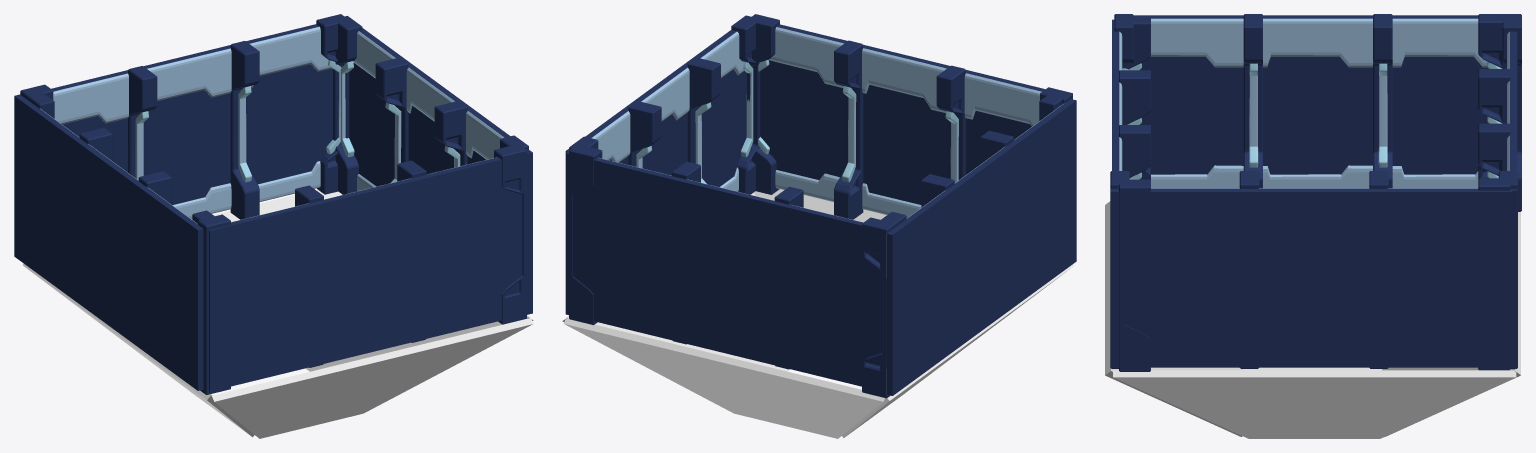
Rendered from SlantedRoom.fbx.
3 renders of one model, left to right at view 1: azimuth 30°, elevation 25°; view 2: azimuth 150°, elevation 25°; view 3: azimuth 270°, elevation 25°, orthographic. The views are drawn at different scales.
Parts seen in each view (by area): view 1: Wall3.003, Wall3.001, Wall3.004, Circuit_Board, Wall3.002, Ridge_outside.004, Ridge_outside.002, Ridge_outside.001, Ridge_outside.003, Circuit_Board.002, Circuit_Board.001, Circuit_Board.003; view 2: Wall3.004, Wall3.001, Wall3.003, Circuit_Board.003, Wall3.002, Ridge_outside.003, Ridge_outside.002, Ridge_outside.001, Ridge_outside.004, Circuit_Board.002, Circuit_Board, Circuit_Board.001; view 3: Wall3.002, Wall3.001, Circuit_Board.001, Ridge_outside.001, Ridge_outside.003, Ridge_outside.004, Wall3.004, Circuit_Board, Ridge_outside.002, Wall3.003, Circuit_Board.003, Circuit_Board.002.
Boxes of the visible parts, box(x1,y1,x2,y2) form: Wall3.003: box(209, 157, 522, 391); Wall3.001: box(14, 94, 203, 390); Wall3.004: box(51, 24, 332, 218); Circuit_Board: box(212, 318, 533, 438); Wall3.002: box(349, 28, 532, 314); Ridge_outside.004: box(27, 16, 362, 219); Ridge_outside.002: box(316, 14, 526, 324); Ridge_outside.001: box(20, 84, 230, 394); Ridge_outside.003: box(192, 135, 528, 367); Circuit_Board.002: box(22, 264, 254, 437); Circuit_Board.001: box(305, 194, 533, 371); Circuit_Board.003: box(213, 189, 341, 221); Wall3.004: box(565, 151, 882, 386); Wall3.001: box(886, 99, 1076, 395); Wall3.003: box(759, 24, 1045, 217); Circuit_Board.003: box(563, 317, 884, 438); Wall3.002: box(565, 30, 748, 191); Ridge_outside.003: box(731, 15, 1066, 219); Ridge_outside.002: box(569, 14, 779, 325); Ridge_outside.001: box(862, 87, 1072, 398); Ridge_outside.004: box(569, 136, 906, 369); Circuit_Board.002: box(842, 264, 1073, 437); Circuit_Board: box(754, 189, 886, 222); Circuit_Board.001: box(562, 192, 790, 371); Wall3.002: box(1110, 188, 1512, 367); Wall3.001: box(1134, 15, 1488, 188); Circuit_Board.001: box(1113, 370, 1516, 438); Ridge_outside.001: box(1114, 14, 1521, 211); Ridge_outside.003: box(1119, 15, 1150, 371); Ridge_outside.004: box(1478, 14, 1510, 370); Wall3.004: box(1507, 31, 1517, 366); Circuit_Board: box(1105, 201, 1243, 436); Ridge_outside.002: box(1110, 171, 1517, 368); Wall3.003: box(1112, 19, 1122, 170); Circuit_Board.003: box(1382, 212, 1520, 436); Circuit_Board.002: box(1243, 367, 1382, 370).
Size of the model in its own units: 10508 by 8528 by 10439.
